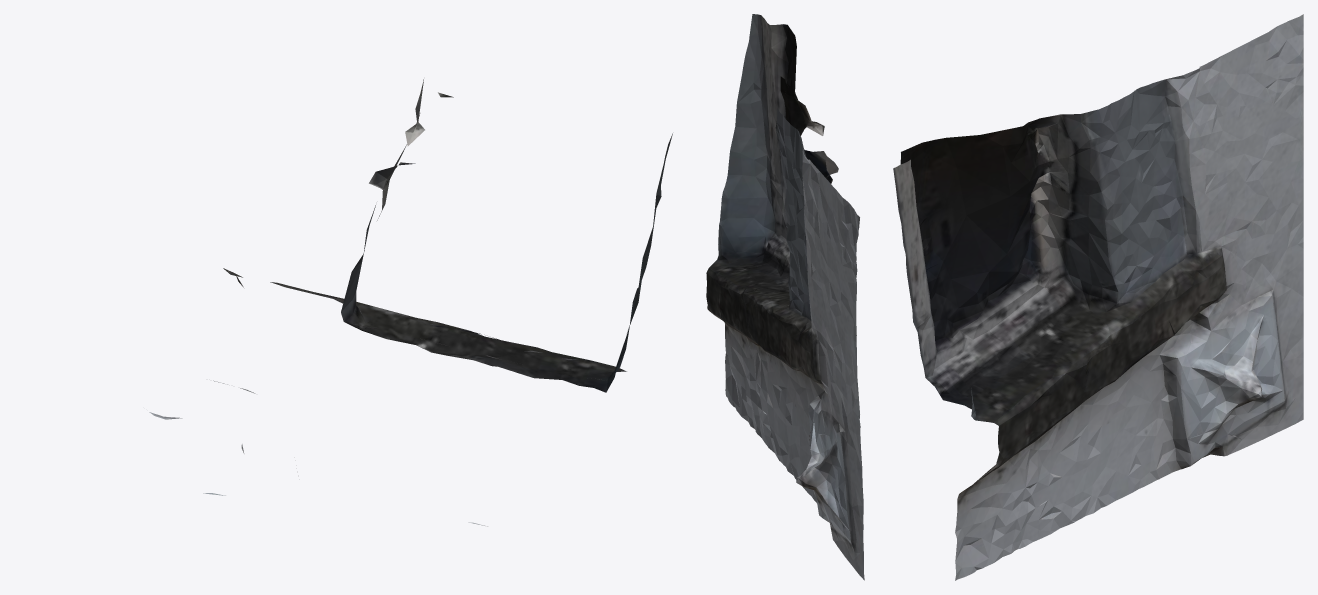
The picture shows the model from 3 angles, left to right: view 1: azimuth 30°, elevation 25°; view 2: azimuth 150°, elevation 25°; view 3: azimuth 270°, elevation 25°; orthographic projection. The views are drawn at different scales.
Bounding box in the file's own units: 0.7095 × 0.8374 × 0.7628.
3 materials, 3 textured.
